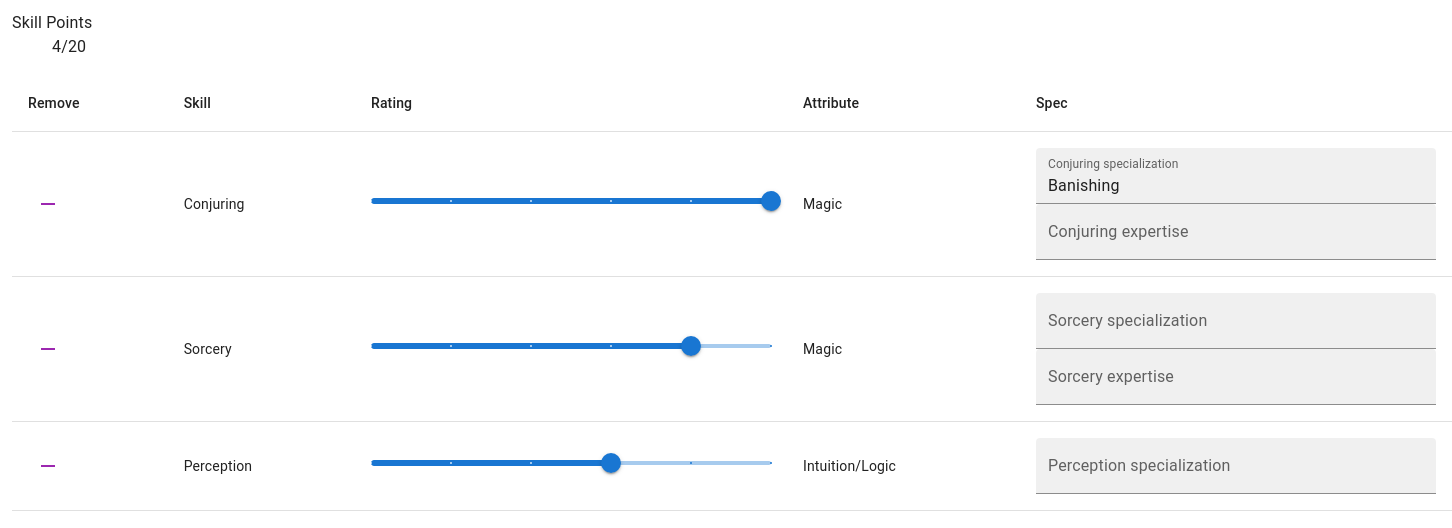
Test case: <RunnerSkillTable/> › specialization › should allow free form specialization
Click the dropdown labelled "Conjuring specialization" at (1220, 186), box [1044, 167, 1397, 204]
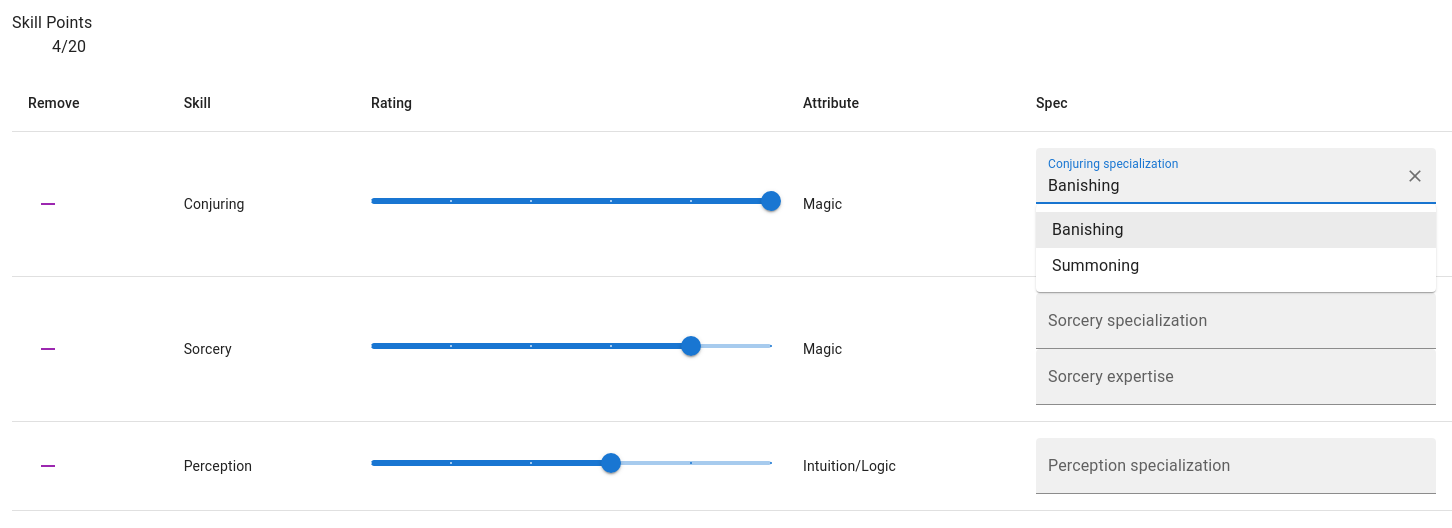
Click the button named "Clear" at (1415, 176), box [1401, 162, 1429, 190]
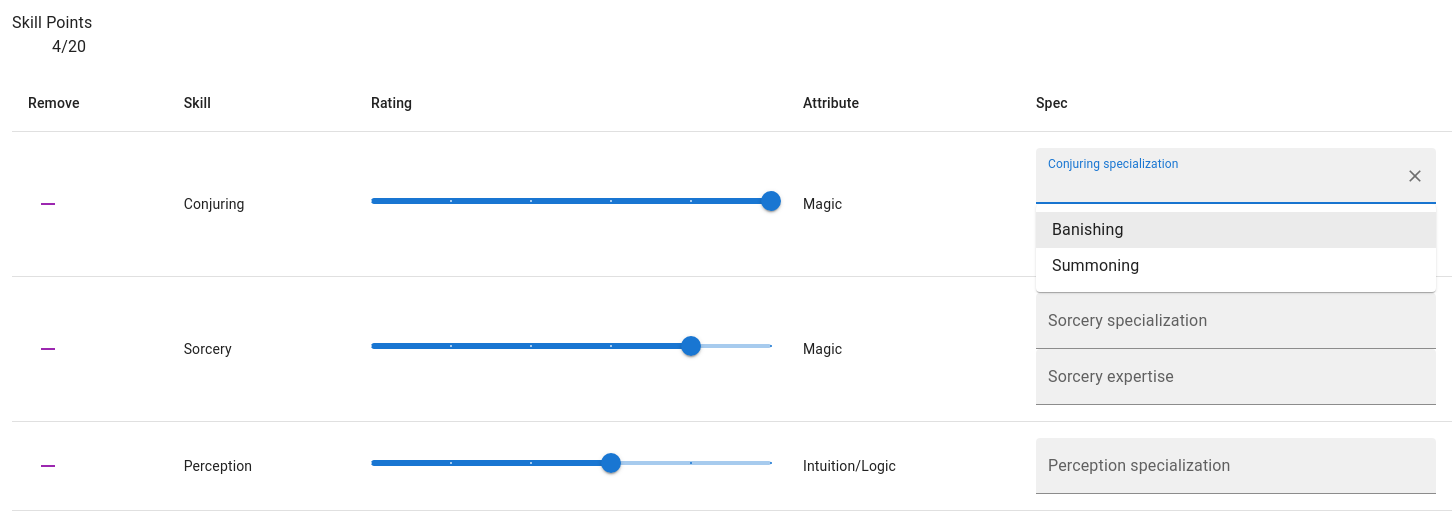
Click the dropdown labelled "Conjuring specialization" at (1220, 186), box [1044, 167, 1397, 204]
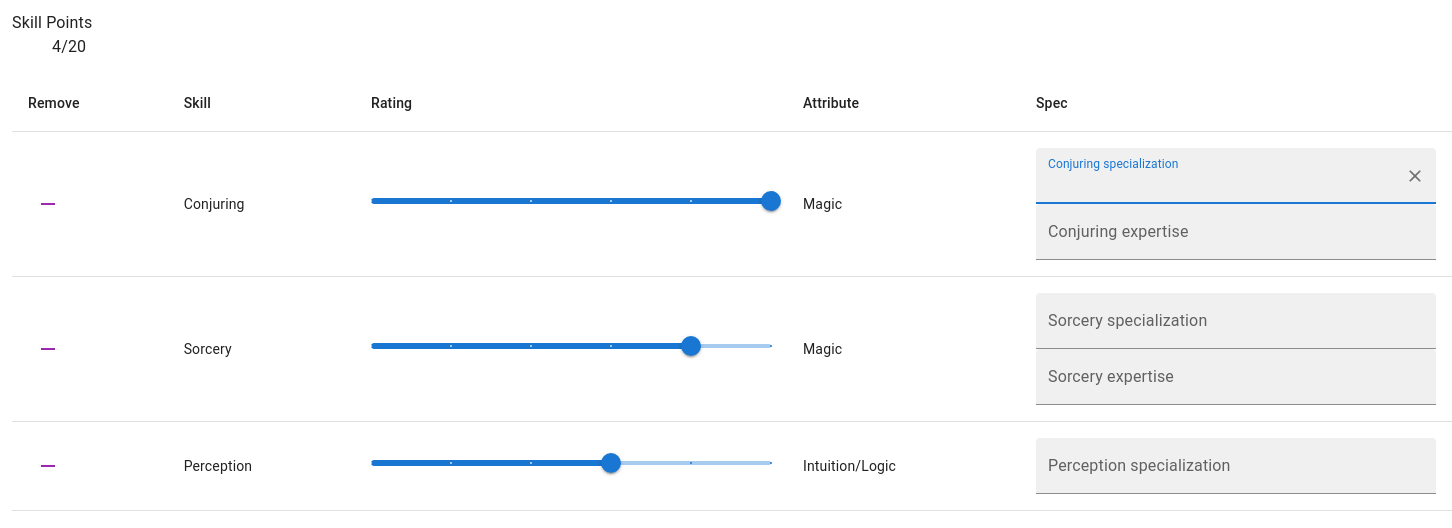
Type keys "wild{enter}"
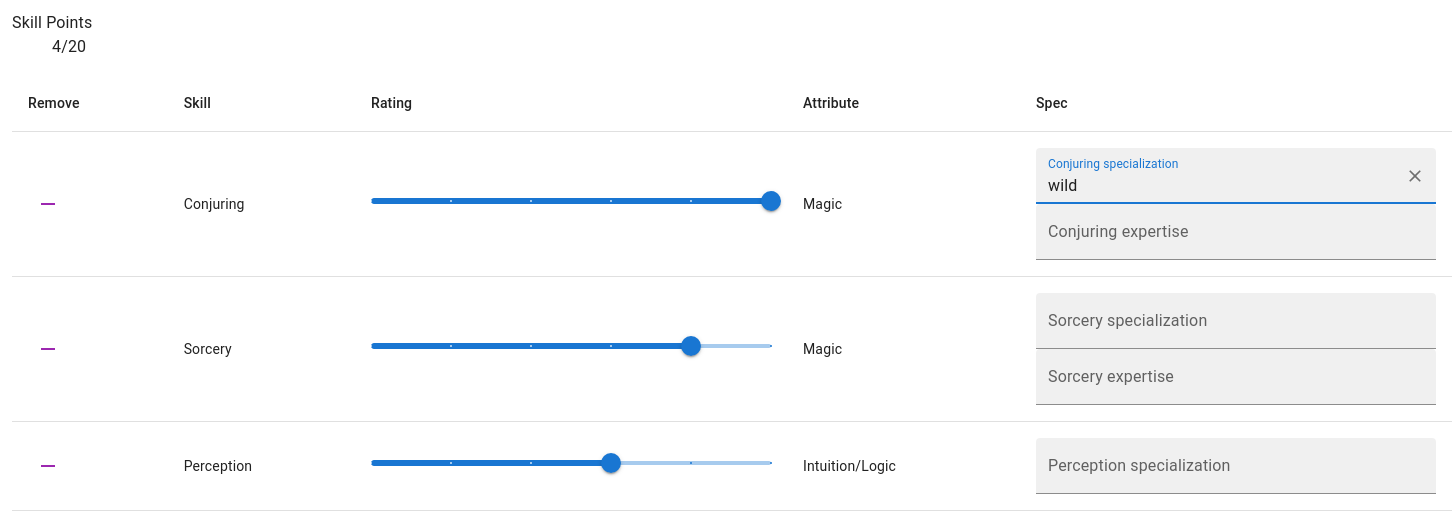
expect the dropdown labelled "Conjuring specialization" holds "wild": met, box [1044, 167, 1397, 204]
